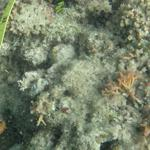dead: (3, 1, 148, 149)
